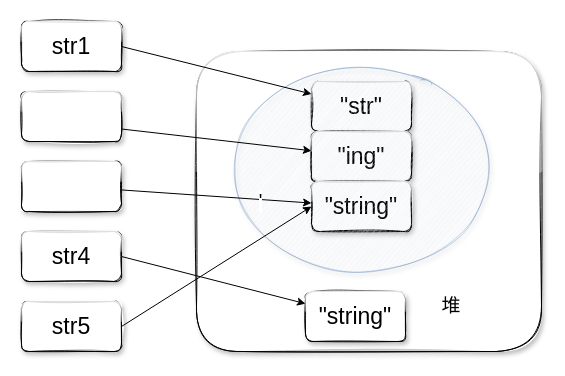
This 565x376 diagram has some shape labels left out. The centre of each missing label's shape, as x and y in pixels:
str2: point 72,117
str3: point 72,187
字符串常量池: point 362,170
